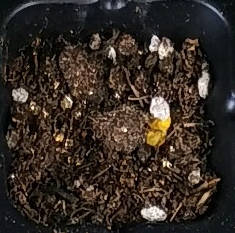pepper seed: (60, 53, 227, 199), (62, 47, 235, 181)
